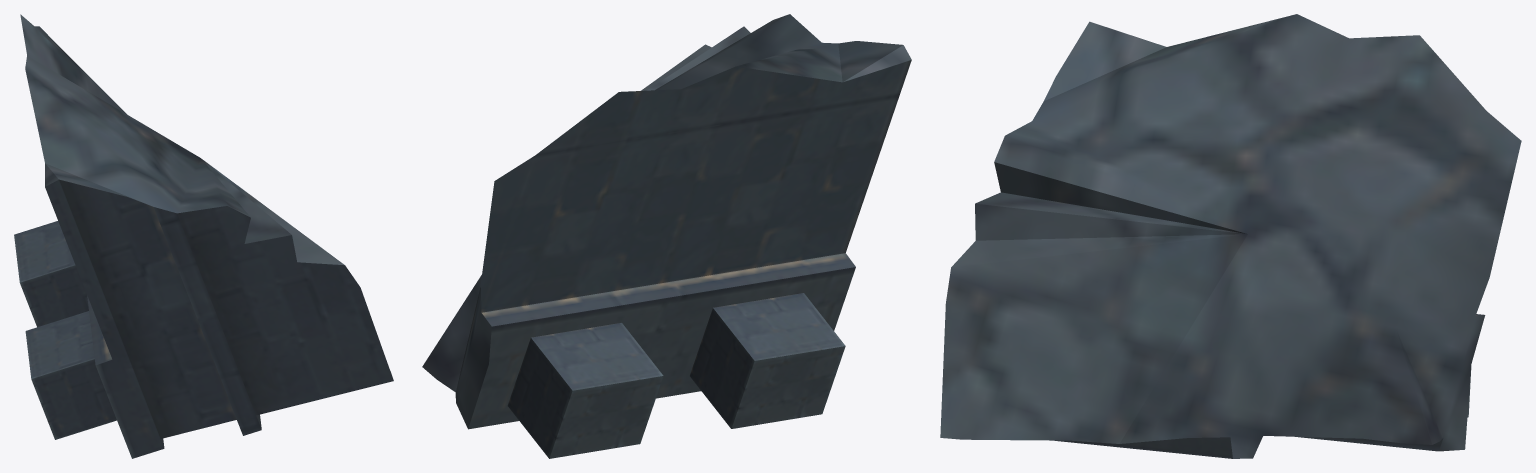
Rendered from Area_05_13.fbx.
3 renders of one model, left to right at view 1: azimuth 30°, elevation 25°; view 2: azimuth 150°, elevation 25°; view 3: azimuth 270°, elevation 25°, orthographic. The views are drawn at different scales.
Visible parts, largest first — view 1: Area_05_13; view 2: Area_05_13; view 3: Area_05_13.
Part boxes in pixels (x1=…): Area_05_13: x1=14, y1=14, x2=393, y2=458; Area_05_13: x1=422, y1=14, x2=911, y2=458; Area_05_13: x1=940, y1=14, x2=1521, y2=458.
Bounding box in the file's own units: 821 × 891 × 1194.
